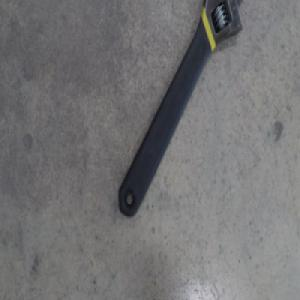AdjustableWrench: (117, 0, 244, 218)
